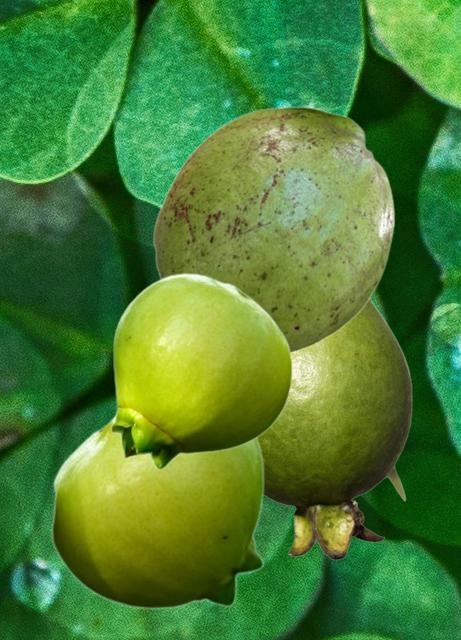guava: (152, 106, 394, 354), (50, 413, 264, 608), (259, 299, 411, 559), (110, 273, 292, 469)
